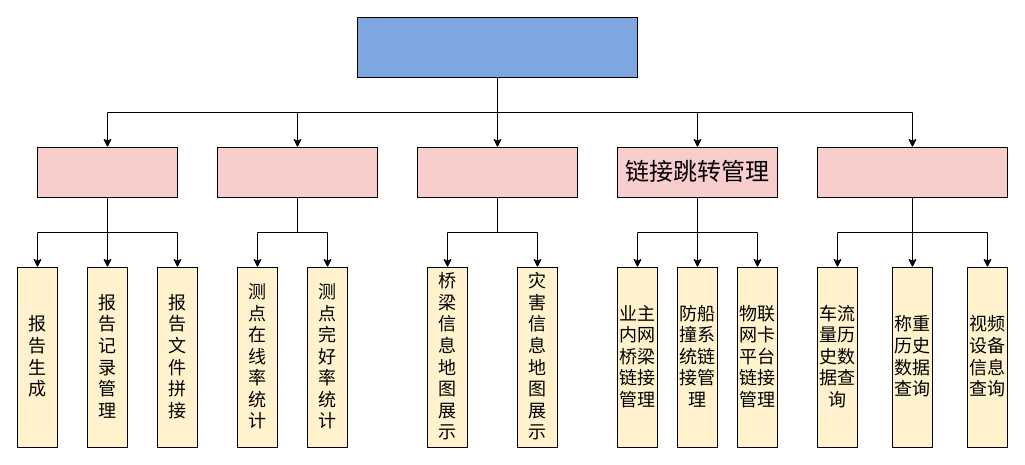
The diagram is 1025 pixels wide and 465 high, and some of its shapes have lost their labels. The box of each missing label's shape, as (x1, y1, x2, y2) in pixels:
报告管理: (36, 146, 178, 198)
数据接入和查询: (816, 146, 1008, 198)
桥梁分布管理: (416, 146, 578, 198)
桥梁配置运维管理系统: (356, 16, 638, 78)
设备指标统计: (216, 146, 378, 198)
